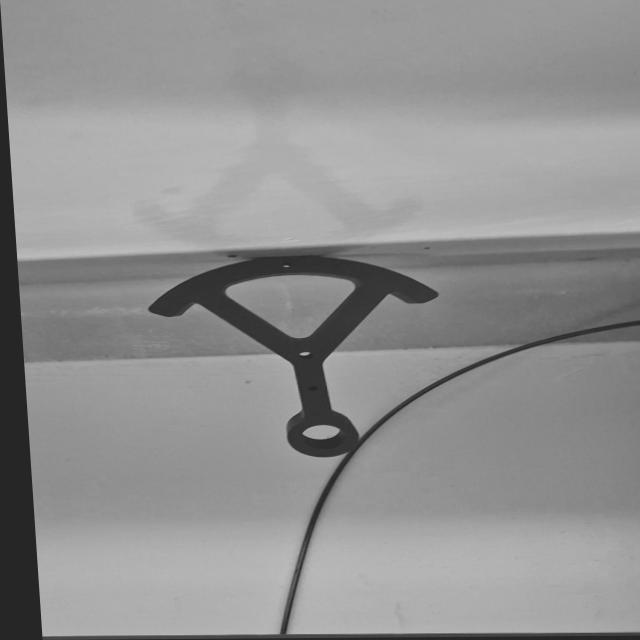haptic: (143, 255, 451, 459)
